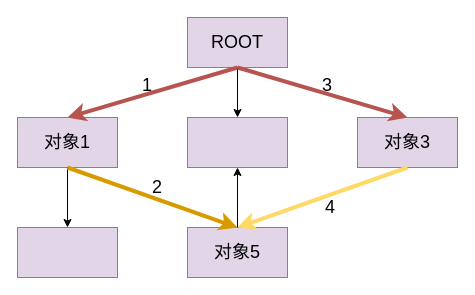
The diagram is 475 pixels wide and 295 high, and some of its shapes have lost their labels. Here are the shapes that lost their labels. From the top down, the centre of each, then its label:
At pixel 237 142: "对象2".
At pixel 67 252: "对象4".
